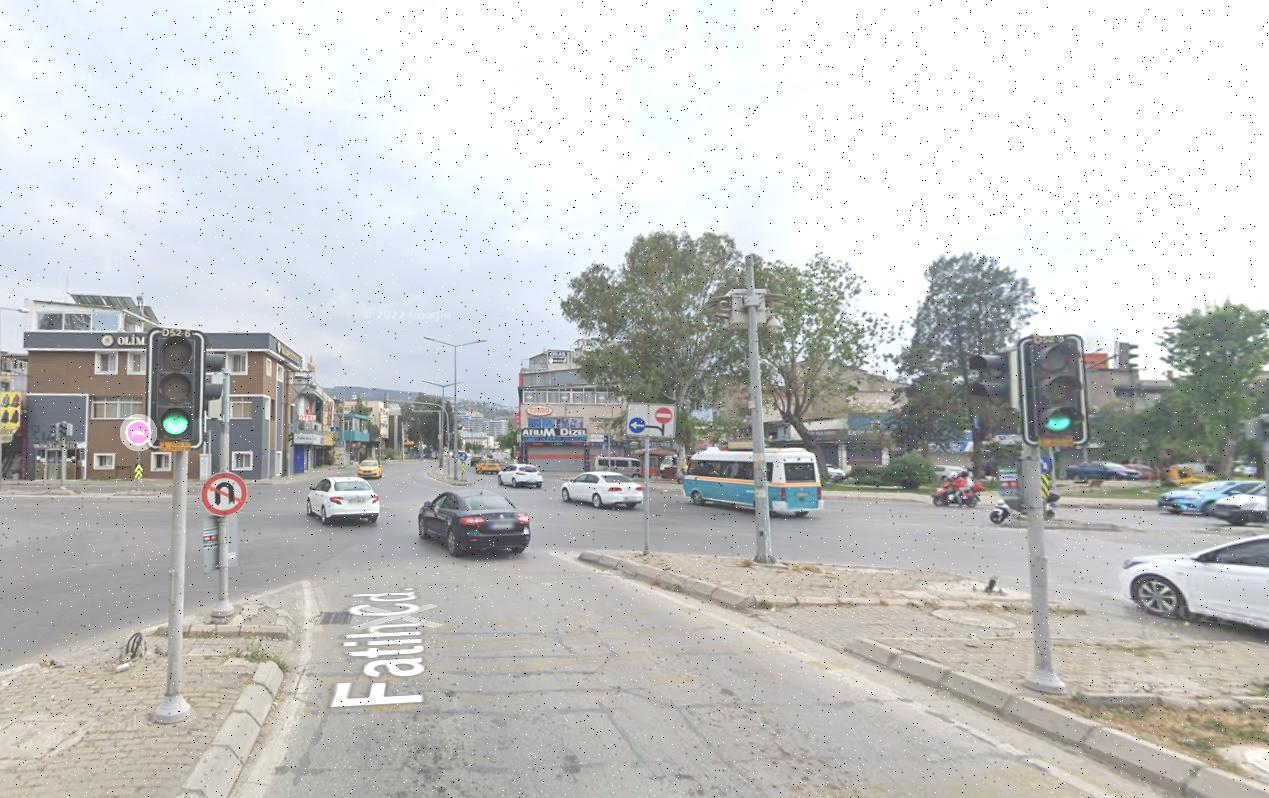greenlight: (1015, 325, 1094, 450), (144, 325, 210, 450)
